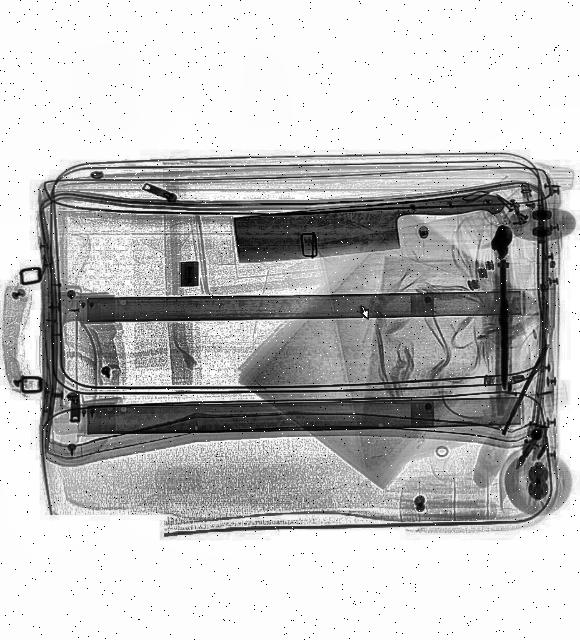Knife: (234, 190, 508, 268)
